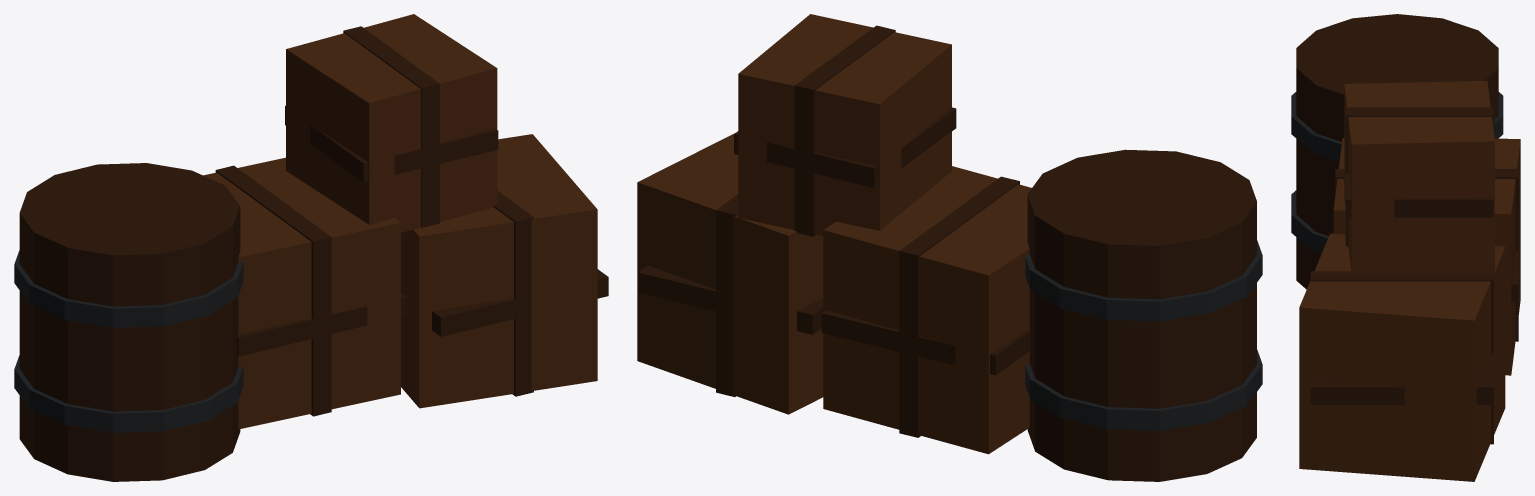
File: Crates_B.obj
3 views of the same model, side by side, from view 1: azimuth 30°, elevation 25°; view 2: azimuth 150°, elevation 25°; view 3: azimuth 270°, elevation 25° (orthographic). The views are drawn at different scales.
Visible parts, largest first — view 1: Barrel, Crate1, Crate2, Crate0, Band0B, BarrelBand1, BarrelBand2, Band2B, Band1B, Band2A, Band0A, Band1A; view 2: Barrel, Crate0, Crate2, Crate1, Band0B, BarrelBand1, BarrelBand2, Band2B, Band0A, Band2A, Band1B, Band1A; view 3: Crate1, Crate2, Barrel, Crate0, Band1A, Band1B, Band2A, Band2B, BarrelBand2, BarrelBand1, Band0B, Band0A.
Part boxes in pixels (x1=…): Barrel: x1=19, y1=163, x2=240, y2=481; Crate1: x1=401, y1=134, x2=597, y2=408; Crate2: x1=286, y1=14, x2=497, y2=232; Crate0: x1=203, y1=157, x2=400, y2=429; Band0B: x1=215, y1=165, x2=331, y2=416; BarrelBand1: x1=14, y1=355, x2=243, y2=432; BarrelBand2: x1=14, y1=250, x2=243, y2=327; Band2B: x1=343, y1=26, x2=439, y2=227; Band1B: x1=494, y1=190, x2=533, y2=396; Band2A: x1=285, y1=105, x2=498, y2=182; Band0A: x1=237, y1=293, x2=406, y2=356; Band1A: x1=432, y1=269, x2=608, y2=336; Barrel: x1=1027, y1=149, x2=1256, y2=481; Crate0: x1=823, y1=166, x2=1031, y2=454; Crate2: x1=738, y1=14, x2=951, y2=235; Crate1: x1=637, y1=133, x2=823, y2=414; Band0B: x1=899, y1=176, x2=1019, y2=437; BarrelBand1: x1=1025, y1=349, x2=1262, y2=430; BarrelBand2: x1=1025, y1=240, x2=1262, y2=321; Band2B: x1=794, y1=25, x2=895, y2=236; Band0A: x1=821, y1=310, x2=1030, y2=375; Band2A: x1=734, y1=107, x2=956, y2=188; Band1B: x1=716, y1=194, x2=738, y2=396; Band1A: x1=638, y1=265, x2=823, y2=334; Crate1: x1=1299, y1=233, x2=1505, y2=481; Crate2: x1=1344, y1=81, x2=1494, y2=272; Barrel: x1=1296, y1=14, x2=1498, y2=289; Crate0: x1=1333, y1=138, x2=1520, y2=375; Band1A: x1=1310, y1=353, x2=1493, y2=404; Band1B: x1=1310, y1=271, x2=1493, y2=444; Band2A: x1=1345, y1=173, x2=1493, y2=217; Band2B: x1=1345, y1=107, x2=1493, y2=246; BarrelBand2: x1=1291, y1=92, x2=1503, y2=161; BarrelBand1: x1=1291, y1=190, x2=1328, y2=254; Band0B: x1=1335, y1=169, x2=1518, y2=341; Band0A: x1=1511, y1=250, x2=1518, y2=302.
Size of the model in its own units: 2.39 by 1.31 by 0.9273.
